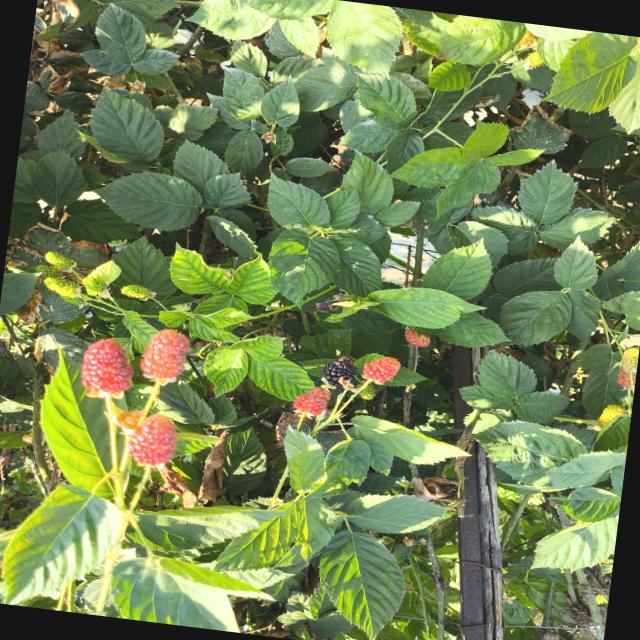maduro: (321, 356, 355, 386)
naranja: (81, 338, 132, 393), (140, 328, 188, 381), (128, 413, 176, 465), (293, 387, 330, 417), (362, 357, 400, 383), (404, 328, 430, 347), (616, 368, 635, 389)
verde: (44, 276, 78, 298), (597, 404, 624, 426), (82, 274, 108, 295), (121, 284, 155, 300), (44, 251, 74, 269), (620, 347, 639, 373), (33, 264, 60, 278), (359, 384, 376, 400)
